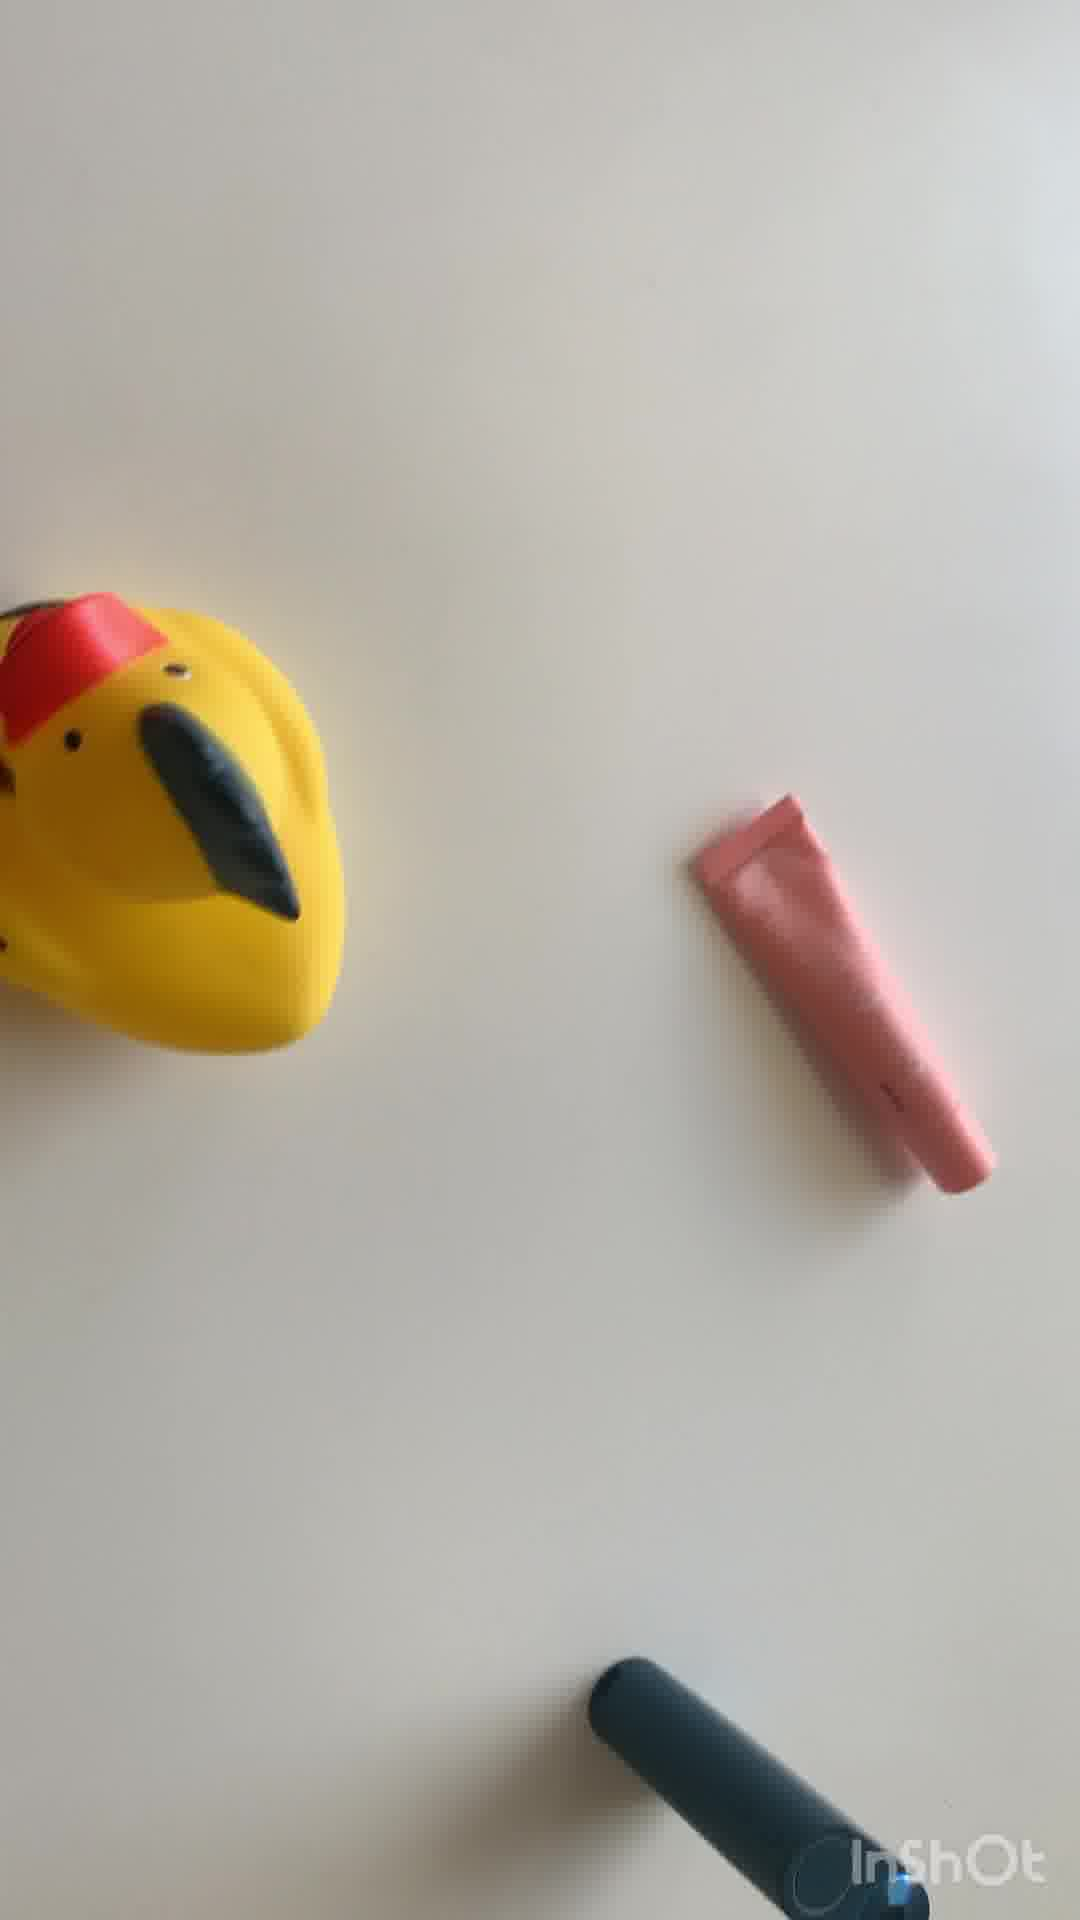duck: (1, 580, 349, 1067)
glo: (580, 1659, 934, 1920)
lip balm: (684, 787, 996, 1200)
